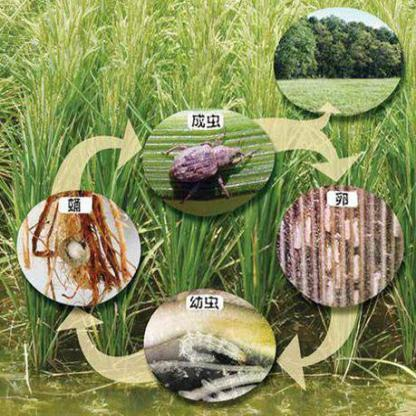rice-bug: (168, 136, 246, 202)
